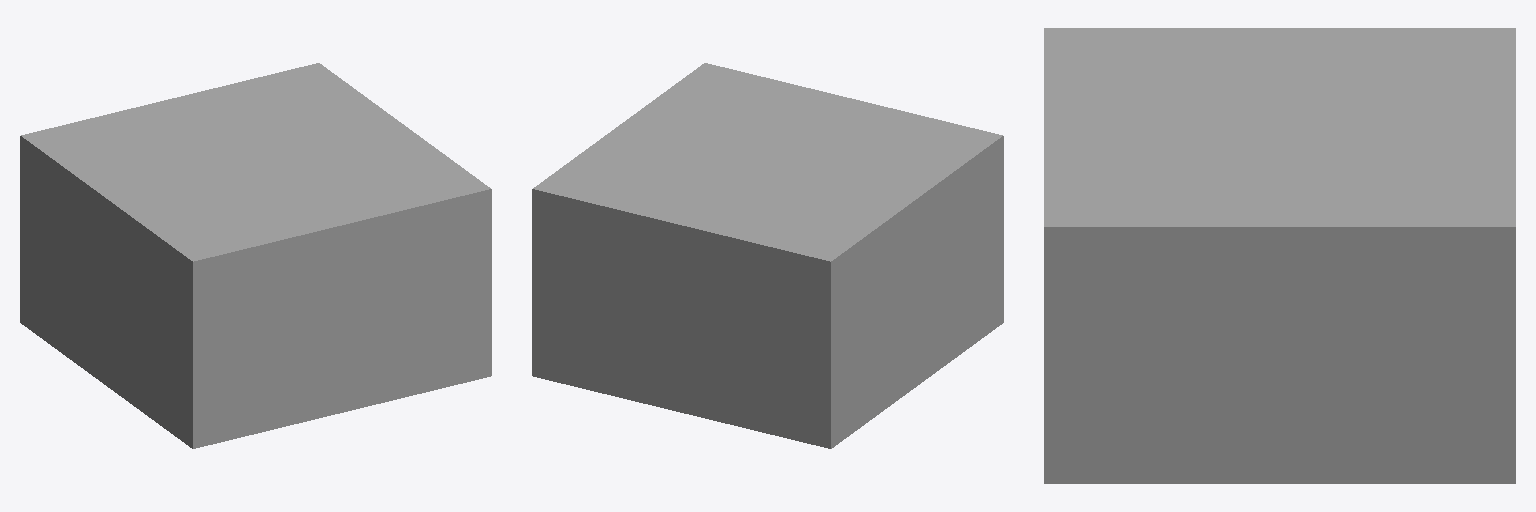
URDF robot description (kuka_iiwa):
<?xml version="1.0" ?>
<!--Autogenerated by "taco/models/sdf2urdf" converter from "../kuka_iiwa/kuka_iiwa.sdf"-->
<robot name="kuka_iiwa">
    <link name="base_link">
        <inertial>
            <origin xyz="0 0 0.14" rpy="0 -0 0" />
            <mass value="4" />
            <inertia ixx="0.4" iyy="0.4" izz="0.4" ixy="0" ixz="0" iyz="0" />
        </inertial>
        <visual>
            <origin xyz="0 0 0" rpy="0 -0 0" />
            <geometry>
                <mesh filename="../../../Model/meshes_iiwa/base.obj" scale="1 1 1" />
            </geometry>
        </visual>
        <!-- <collision>
            <origin xyz="0 0 0" rpy="0 -0 0" />
            <geometry>
                <mesh filename="../../../Model/meshes_iiwa/base.obj" scale="1 1 1" />
            </geometry>
        </collision> -->
    </link>
    <link name="link0">
        <inertial>
            <origin xyz="0 0 0.14" rpy="0 -0 0" />
            <mass value="4" />
            <inertia ixx="0.4" iyy="0.4" izz="0.4" ixy="0" ixz="0" iyz="0" />
        </inertial>
        <visual>
            <origin xyz="0 0 0" rpy="0 -0 0" />
            <geometry>
                <mesh filename="../../../Model/meshes_iiwa/link0.obj" scale="1 1 1" />
            </geometry>
        </visual>
        <!-- <collision>
            <origin xyz="0 0 0" rpy="0 -0 0" />
            <geometry>
                <mesh filename="../../../Model/meshes_iiwa/link0.obj" scale="1 1 1" />
            </geometry>
        </collision> -->
    </link>
    <link name="link1">
        <inertial>
            <origin xyz="0 0 0.14" rpy="0 -0 0" />
            <mass value="4" />
            <inertia ixx="0.4" iyy="0.4" izz="0.4" ixy="0" ixz="0" iyz="0" />
        </inertial>
        <visual>
            <origin xyz="0 0 0" rpy="0 -0 0" />
            <geometry>
                <mesh filename="../../../Model/meshes_iiwa/link1.obj" scale="1 1 1" />
            </geometry>
        </visual>
        <!-- <collision>
            <origin xyz="0 0 0" rpy="0 -0 0" />
            <geometry>
                <mesh filename="../../../Model/meshes_iiwa/link1.obj" scale="1 1 1" />
            </geometry>
        </collision> -->
    </link>
    <link name="link2">
        <inertial>
            <origin xyz="0 0 0.14" rpy="0 -0 0" />
            <mass value="4" />
            <inertia ixx="0.4" iyy="0.4" izz="0.4" ixy="0" ixz="0" iyz="0" />
        </inertial>
        <visual>
            <origin xyz="0 0 0" rpy="0 -0 0" />
            <geometry>
                <mesh filename="../../../Model/meshes_iiwa/link2.obj" scale="1 1 1" />
            </geometry>
        </visual>
        <!-- <collision>
            <origin xyz="0 0 0" rpy="0 -0 0" />
            <geometry>
                <mesh filename="../../../Model/meshes_iiwa/link2.obj" scale="1 1 1" />
            </geometry>
        </collision> -->
    </link>
    <link name="link3">
        <inertial>
            <origin xyz="0 0 0.14" rpy="0 0 0" />
            <mass value="4" />
            <inertia ixx="0.4" iyy="0.4" izz="0.4" ixy="0" ixz="0" iyz="0" />
        </inertial>
        <visual>
            <origin xyz="0 0 0" rpy="0 0 3.1415926535897" />
            <geometry>
                <mesh filename="../../../Model/meshes_iiwa/link3.obj" scale="1 1 1" />
            </geometry>
        </visual>
        <!-- <collision>
            <origin xyz="0 0 0" rpy="0 -0 0" />
            <geometry>
                <mesh filename="../../../Model/meshes_iiwa/link3.obj" scale="1 1 1" />
            </geometry>
        </collision> -->
    </link>
    <link name="link4">
        <inertial>
            <origin xyz="0 0 0.14" rpy="0 0 0" />
            <mass value="3" />
            <inertia ixx="0.3" iyy="0.3" izz="0.3" ixy="0" ixz="0" iyz="0" />
        </inertial>
        <visual>
            <origin xyz="0 0 0" rpy="0 0 0" />
            <geometry>
                <mesh filename="../../../Model/meshes_iiwa/link4.obj" scale="1 1 1" />
            </geometry>
        </visual>
        <!-- <collision>
            <origin xyz="0 0 0" rpy="0 -0 0" />
            <geometry>
                <mesh filename="../../../Model/meshes_iiwa/link4.obj" scale="1 1 1" />
            </geometry>
        </collision> -->
    </link>
    <link name="link5">
        <inertial>
            <origin xyz="0 0 0.14" rpy="0 0 0" />
            <mass value="2" />
            <inertia ixx="0.2" iyy="0.2" izz="0.2" ixy="0" ixz="0" iyz="0" />
        </inertial>
        <visual>
            <origin xyz="0 -0.06 0" rpy="0 0 0" />
            <geometry>
                <mesh filename="../../../Model/meshes_iiwa/link5.obj" scale="1 1 1" />
            </geometry>
        </visual>
        <!-- <collision>
            <origin xyz="0 -0.06 0" rpy="0 -0 0" />
            <geometry>
                <mesh filename="../../../Model/meshes_iiwa/link5.obj" scale="1 1 1" />
            </geometry>
        </collision> -->
    </link>
    <link name="link6">
        <inertial>
            <origin xyz="0 0 0.03" rpy="0 0 0" />
            <mass value="1" />
            <inertia ixx="0.1" iyy="0.1" izz="0.1" ixy="0" ixz="0" iyz="0" />
        </inertial>
        <visual>
            <origin xyz="0 0 0" rpy="0 0 0" />
            <geometry>
                <mesh filename="../../../Model/meshes_iiwa/link6.obj" scale="1 1 1" />
            </geometry>
        </visual>
        <visual>
            <origin xyz="0 0 0.04" rpy="0 0 0" />
            <geometry>
                <box size="0.05 0.05 0.03"/>
            </geometry>
        </visual>
        <collision>
            <origin xyz="0 0 0.04" rpy="0 0 0" />
            <geometry>
                <box size="0.05 0.05 0.03"/>
            </geometry>
        </collision>
<!--         <collision>
            <origin xyz="0 0 0" rpy="0 0 0" />
            <geometry>
                <mesh filename="../../../Model/meshes_iiwa/link6.obj" scale="1 1 1" />
            </geometry>
        </collision> -->
    </link>
    <joint name="j0" type="revolute">
        <parent link="base_link" />
        <child link="link0" />
        <origin xyz="0.000000 0.000000 0.155767" rpy="0.000000 0.000000 0.000000" />
        <axis xyz="0 0 1" />
        <limit lower="-2.967" upper="2.967" effort="176" velocity="1.7104" />
    </joint>
    <joint name="j1" type="revolute">
        <parent link="link0" />
        <child link="link1" />
        <origin xyz="0.000000 0.000000 0.182500" rpy="0.000000 0.000000 0.000000" />
        <axis xyz="0 1 0" />
        <limit lower="-2.0944" upper="2.0944" effort="176" velocity="1.7104" />
    </joint>
    <joint name="j2" type="revolute">
        <parent link="link1" />
        <child link="link2" />
        <origin xyz="0.000000 0.000000 0.185000" rpy="0.000000 0.000000 0.000000" />
        <axis xyz="0 0 1" />
        <limit lower="-2.967" upper="2.967" effort="110" velocity="1.7453" />
    </joint>
    <joint name="j3" type="revolute">
        <parent link="link2" />
        <child link="link3" />
        <origin xyz="0.000000 0.000000 0.217000" rpy="0.000000 0.000000 3.1415926535897" />
        <axis xyz="0 1 0" />
        <limit lower="-2.0944" upper="2.0944" effort="110" velocity="2.2689" />
    </joint>
    <joint name="j4" type="revolute">
        <parent link="link3" />
        <child link="link4" />
        <origin xyz="0.000000 0.000000 0.186000" rpy="0.000000 0.000000 -3.1415926535897" />
        <axis xyz="0 0 1" />
        <limit lower="-2.967" upper="2.967" effort="110" velocity="2.4434" />
    </joint>
    <joint name="j5" type="revolute">
        <parent link="link4" />
        <child link="link5" />
        <origin xyz="0.000000 0.000000 0.217003" rpy="0.000000 0.000000 0.000000" />
        <axis xyz="0 1 0" />
        <limit lower="-2.0944" upper="2.0944" effort="40" velocity="3.1416" />
    </joint>
    <joint name="j6" type="revolute">
        <parent link="link5" />
        <child link="link6" />
        <origin xyz="0.000000 0.000000 0.081000" rpy="0.000000 0.000000 0.000000" />
        <axis xyz="0 0 1" />
        <limit lower="-3.0543" upper="3.0543" effort="40" velocity="3.1416" />
    </joint>
</robot>

--- Facts derived from the render (not from the file) ---
Views: 3 orthographic renders of the robot side by side, from view 1: azimuth 30°, elevation 25°; view 2: azimuth 150°, elevation 25°; view 3: azimuth 270°, elevation 25°.
Model kuka_iiwa with 8 links and 7 joints (7 revolute), rooted at base_link, posed all joints at 0.
Links seen in each view (by area): view 1: link6; view 2: link6; view 3: link6.
Boxes of the visible links, x1,y1,x2,y2 form: link6: [20, 63, 491, 448]; link6: [532, 63, 1003, 448]; link6: [1044, 28, 1515, 483].
Size in the robot's own frame: 0.05 by 0.05 by 0.03 metres.
Geometry: only primitive shapes (box / cylinder / sphere) drawn; not drawn: 8 mesh visuals (reference in a form the renderer does not follow).